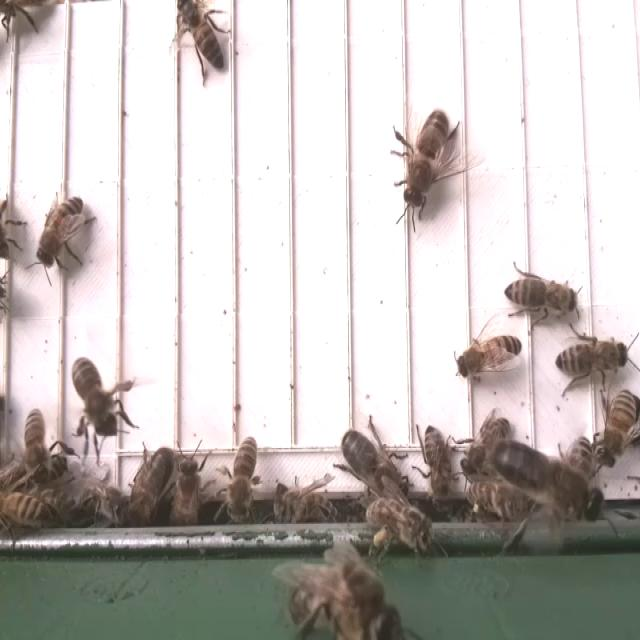Drone: (399, 104, 456, 212), (338, 425, 411, 500), (123, 438, 178, 527)
Worker: (70, 354, 119, 441), (35, 191, 86, 271), (498, 270, 581, 317), (450, 333, 527, 380), (598, 384, 639, 472), (553, 336, 633, 380), (418, 419, 454, 509), (226, 432, 258, 526), (18, 403, 47, 484)
